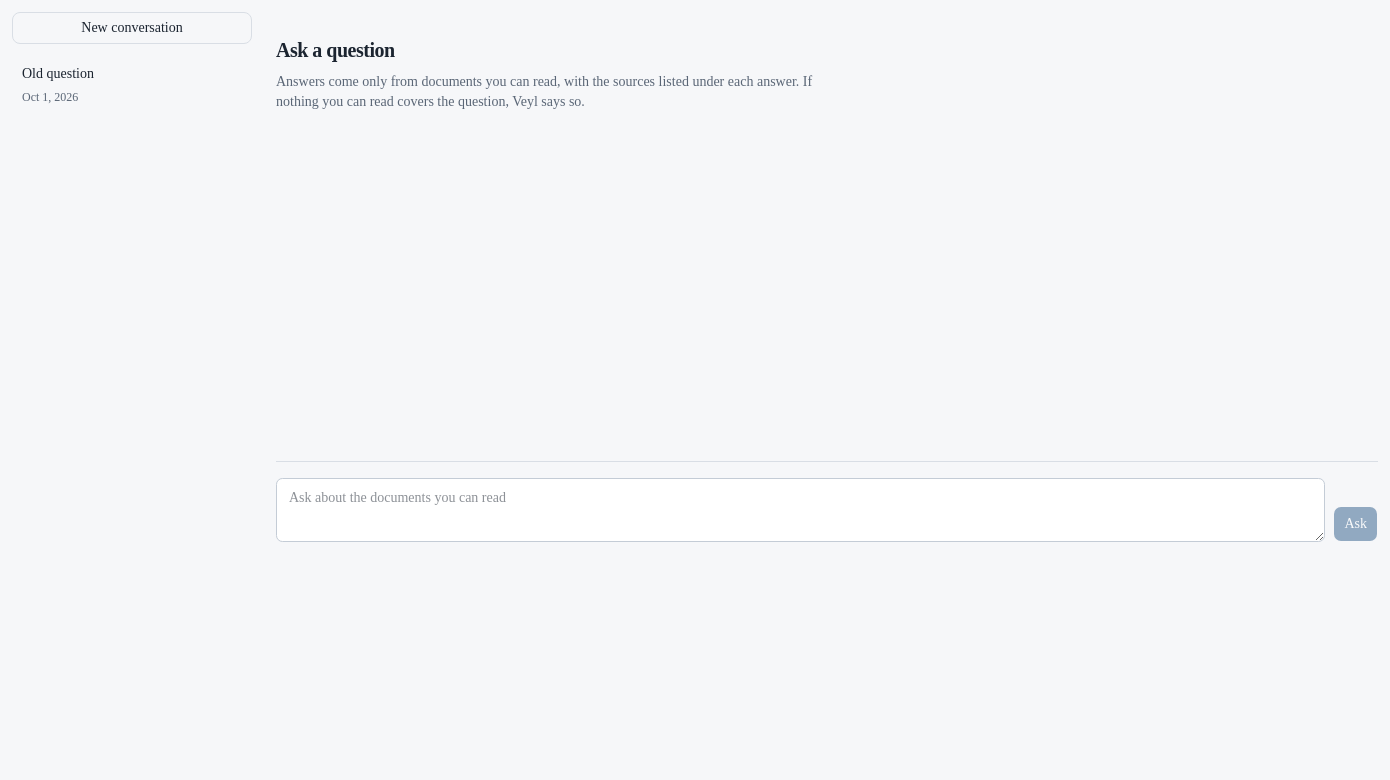
Test: AskPage › explains when a conversation cannot be opened
Click the text "Old question".
click(58, 74)  # box [22,66,94,81]
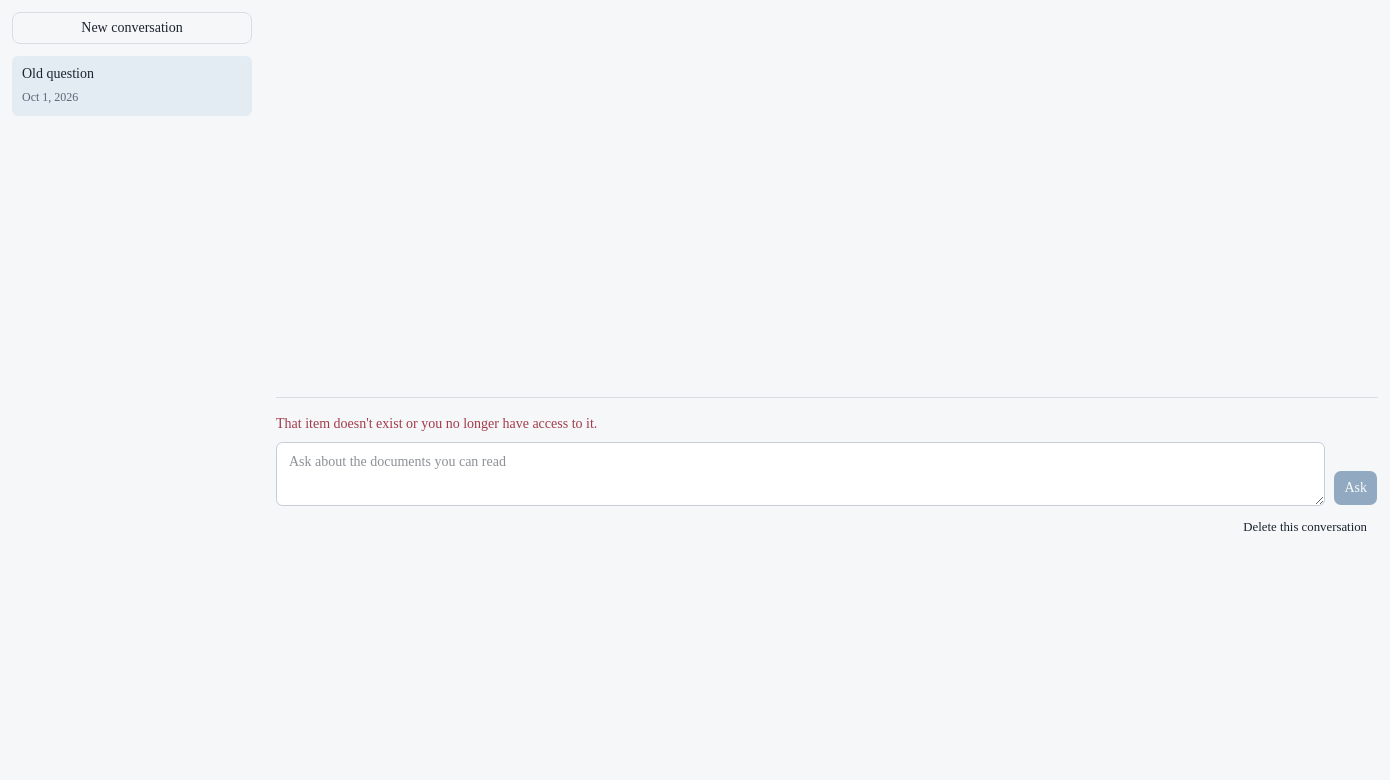
Expected: the message reads "That item doesn't exist or you no longer have access to it.", [276,416,597,431]
